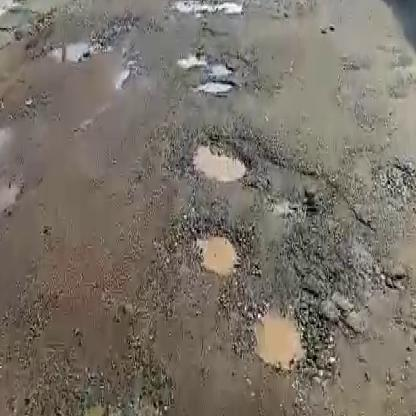pothole: (249, 298, 310, 368), (185, 134, 253, 187), (191, 226, 240, 277), (43, 35, 97, 64), (167, 0, 241, 16), (195, 71, 239, 95)
